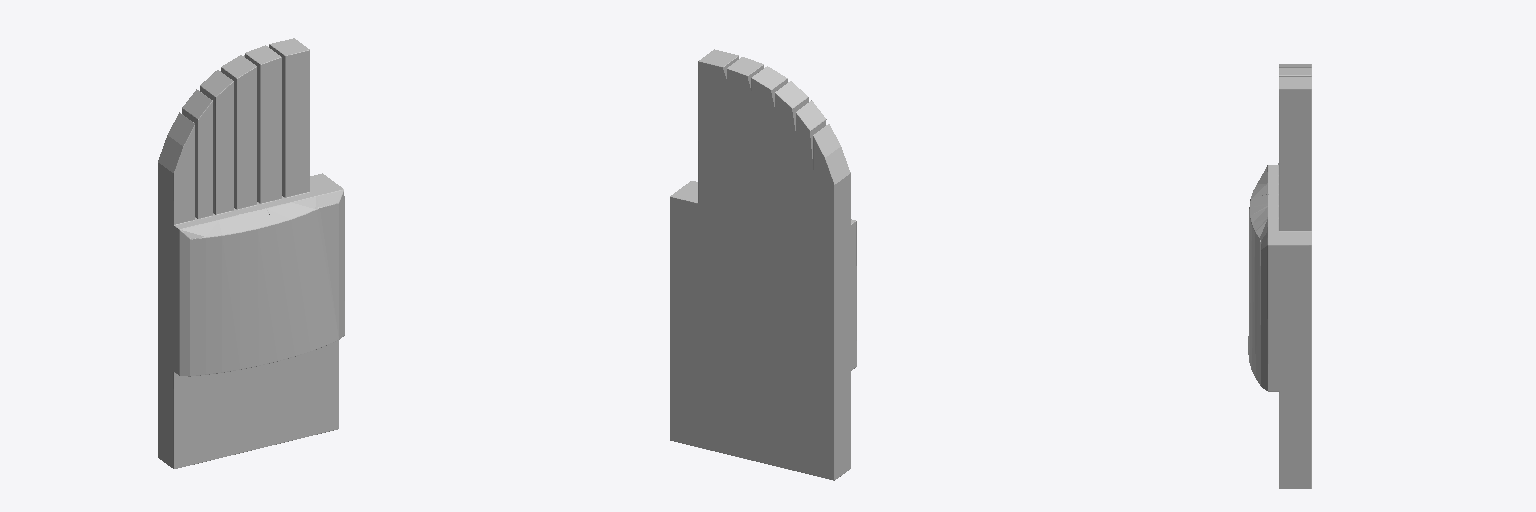
File: SetA_Misc_08.obj
3 renders of one model, left to right at view 1: azimuth 30°, elevation 25°; view 2: azimuth 150°, elevation 25°; view 3: azimuth 270°, elevation 25°, orthographic.
Visible parts, largest first — view 1: SetA_Misc_08; view 2: SetA_Misc_08; view 3: SetA_Misc_08.
Boxes of the visible parts, x1,y1,x2,y2 form: SetA_Misc_08: [158, 38, 344, 468]; SetA_Misc_08: [670, 49, 856, 480]; SetA_Misc_08: [1248, 64, 1311, 488].
Size of the model in its own units: 0.1208 by 0.2702 by 0.0401.